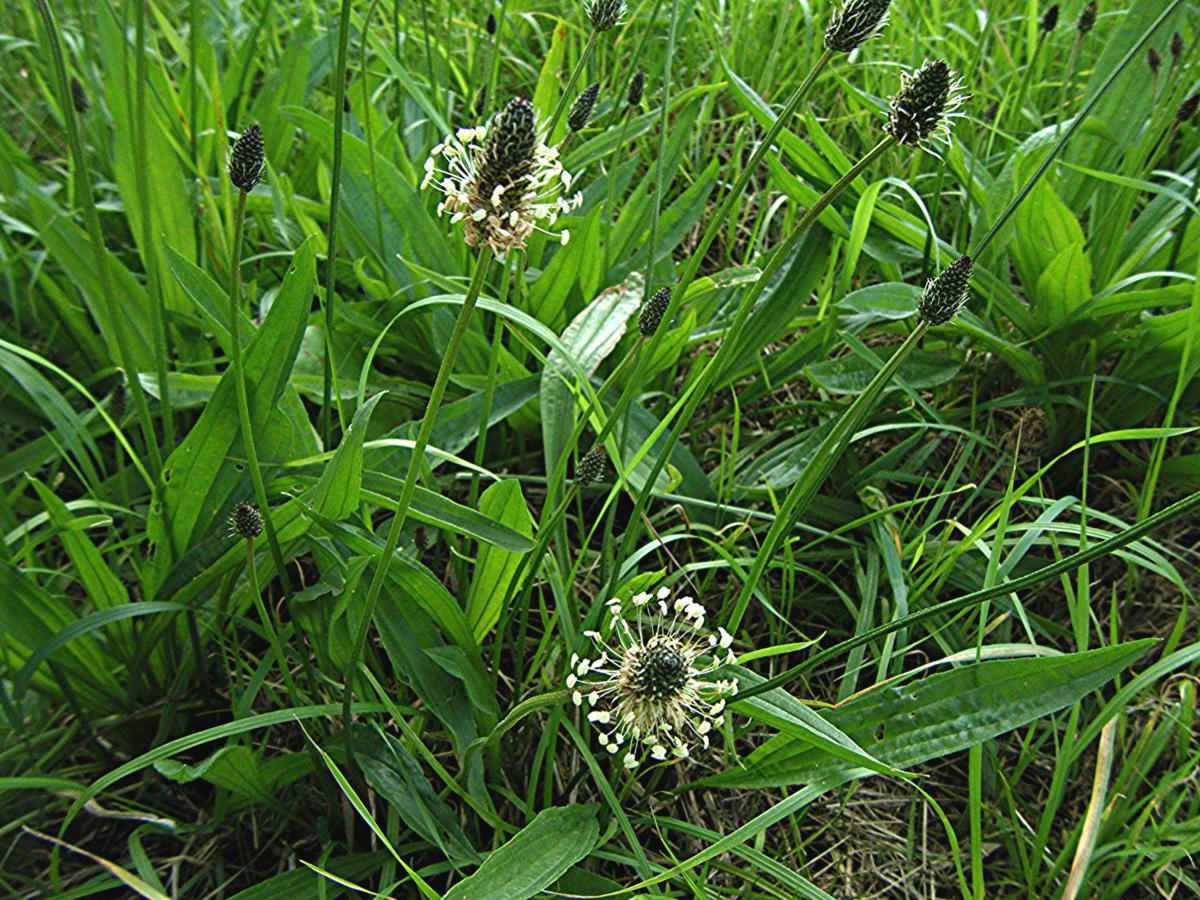buckhorn plantain: (92, 7, 1023, 900), (552, 564, 774, 821), (421, 76, 550, 350)
